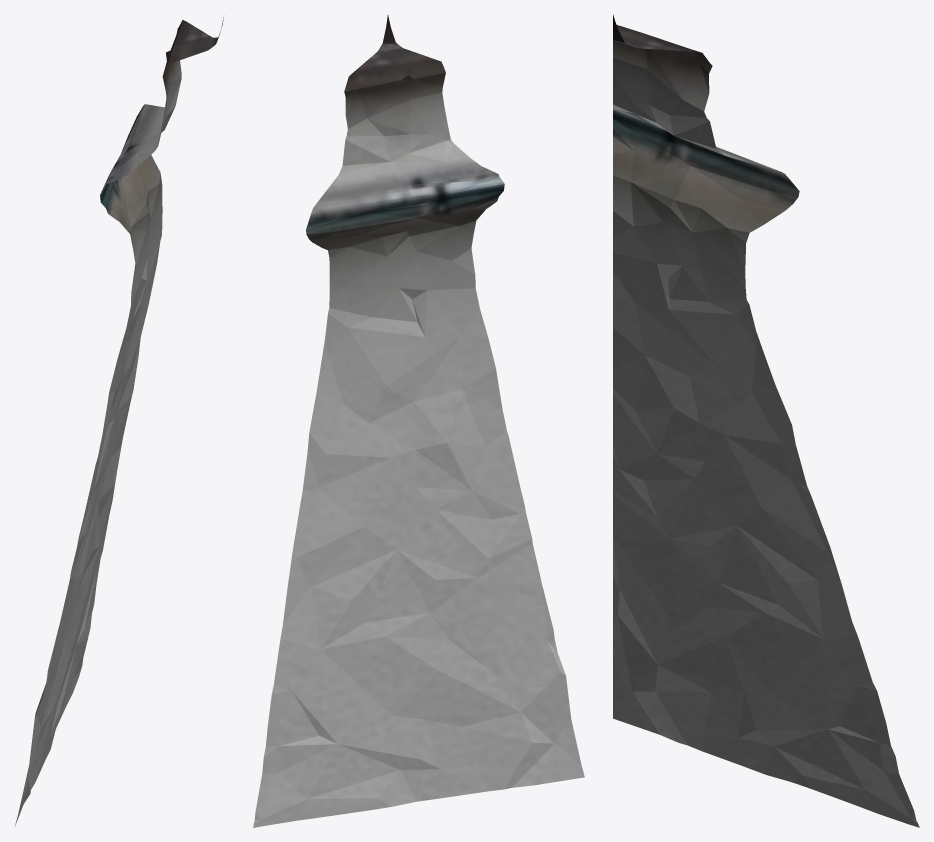
The picture shows the model from 3 angles, left to right: view 1: azimuth 30°, elevation 25°; view 2: azimuth 150°, elevation 25°; view 3: azimuth 270°, elevation 25°; orthographic projection. The views are drawn at different scales.
Bounding box in the file's own units: 0.2165 × 0.7512 × 0.2567.
1 material, 1 textured.
